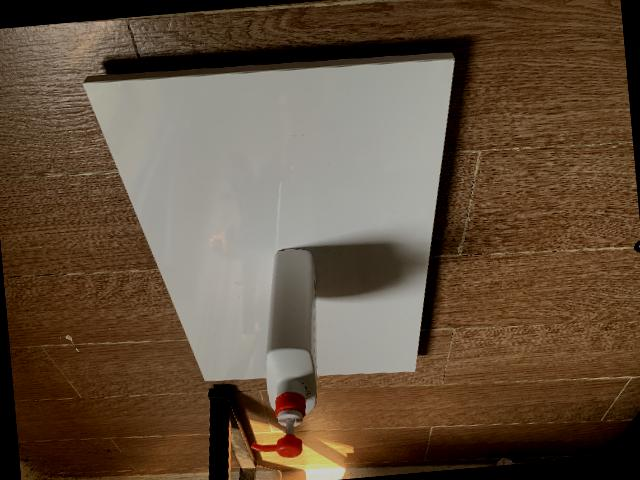life-buoy: (257, 246, 316, 456)
